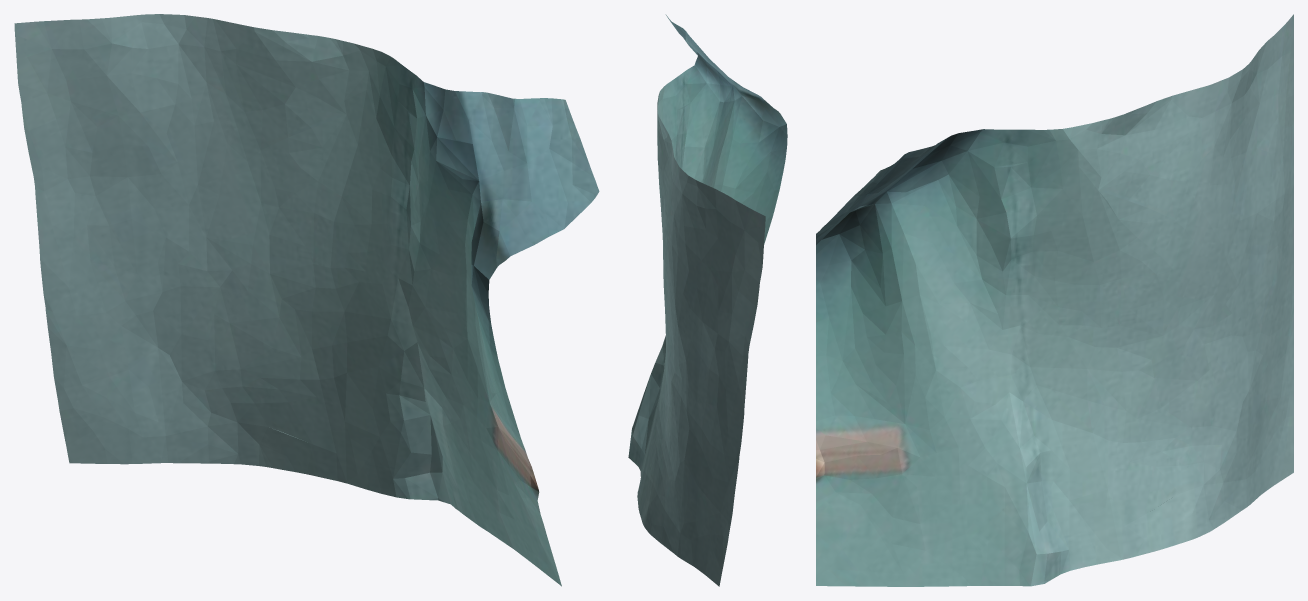
The picture shows the model from 3 angles, left to right: view 1: azimuth 30°, elevation 25°; view 2: azimuth 150°, elevation 25°; view 3: azimuth 270°, elevation 25°; orthographic projection. The views are drawn at different scales.
Parts seen in each view (by area): view 1: 091_W_Aya_100K_01; view 2: 091_W_Aya_100K_01; view 3: 091_W_Aya_100K_01.
Boxes of the visible parts, bbox=[...] form: 091_W_Aya_100K_01: bbox=[14, 14, 599, 586]; 091_W_Aya_100K_01: bbox=[628, 14, 787, 586]; 091_W_Aya_100K_01: bbox=[816, 14, 1293, 586].
Size of the model in its own units: 133 by 171 by 171.
Materials: 1 (1 with a texture image).
